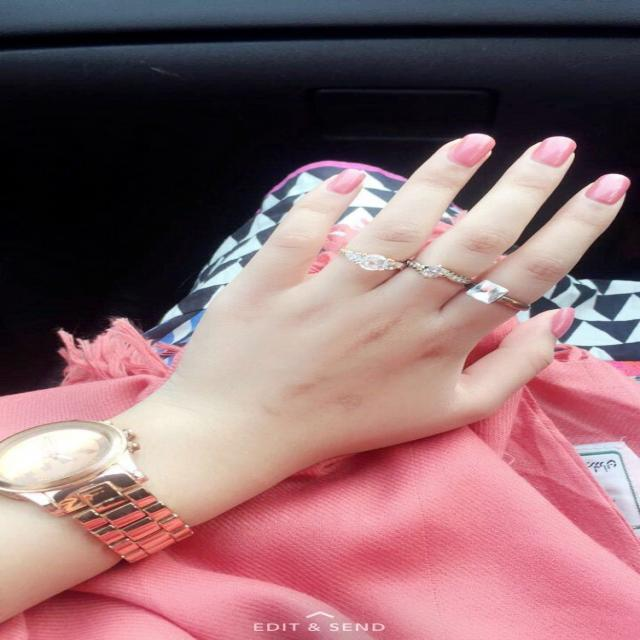bare_hand: (145, 134, 632, 467)
